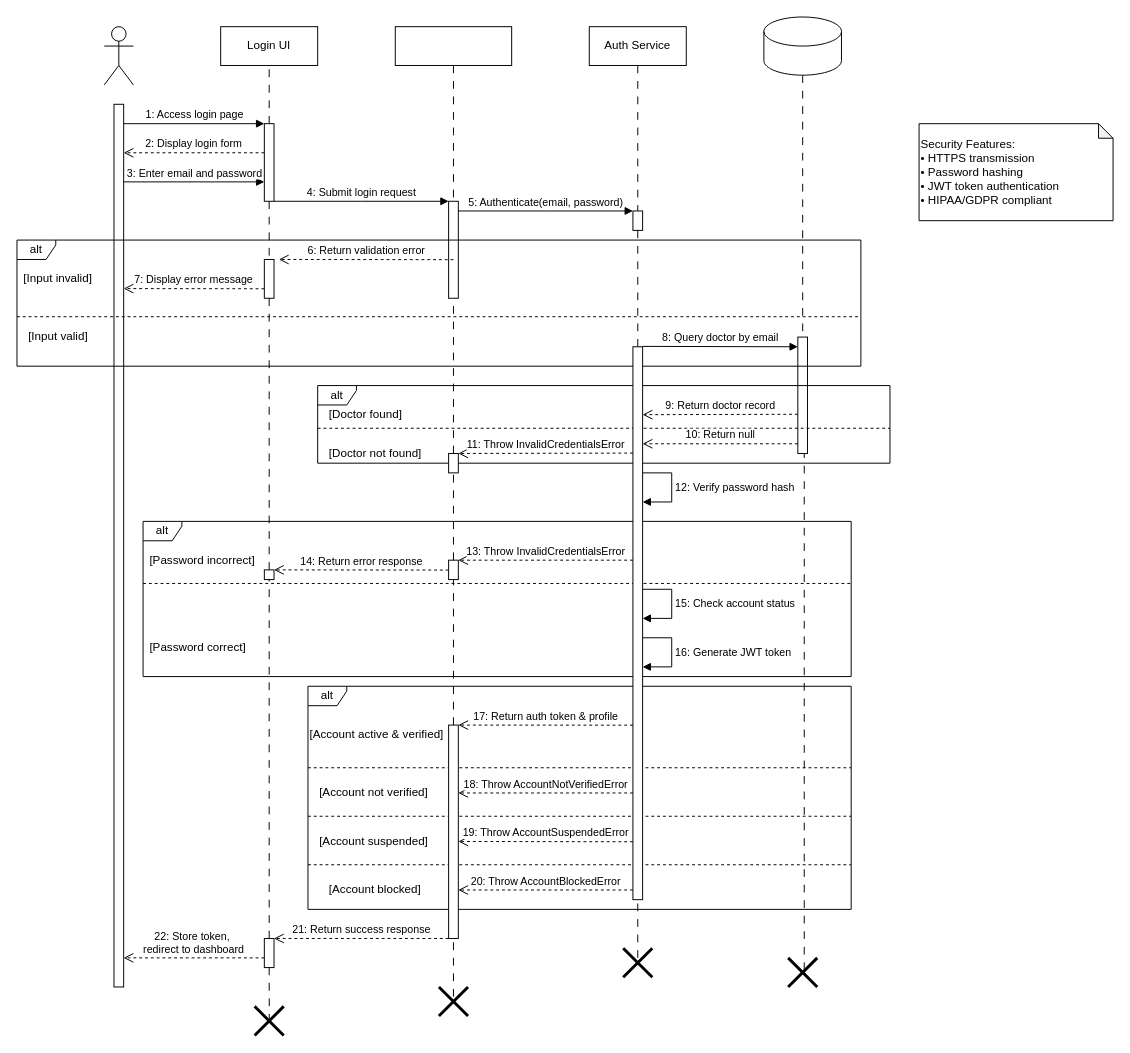
The diagram is 1130 pixels wide and 1053 high, and some of its shapes have lost their labels. Each missing label, with the centre of its shape:
"Auth Controller" goes at point (453, 45).
"Database" goes at point (802, 45).
"Doctor" goes at point (118, 55).
